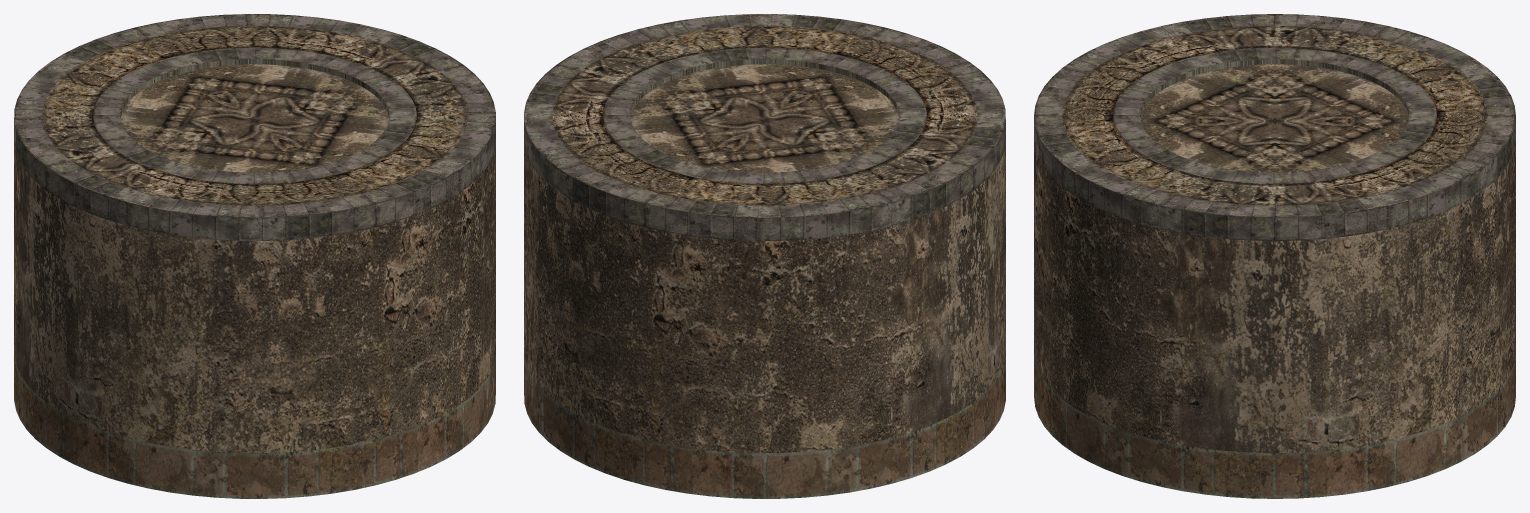
File: materials_5_pillar_fat_8.fbx
3 renders of one model, left to right at view 1: azimuth 30°, elevation 25°; view 2: azimuth 150°, elevation 25°; view 3: azimuth 270°, elevation 25°, orthographic.
Parts seen in each view (by area): view 1: materials_5_pillar_fat_8; view 2: materials_5_pillar_fat_8; view 3: materials_5_pillar_fat_8.
Boxes of the visible parts, x1,y1,x2,y2 form: materials_5_pillar_fat_8: (14,14,495,498); materials_5_pillar_fat_8: (524,14,1005,498); materials_5_pillar_fat_8: (1034,14,1515,498).
Size of the model in its own units: 135 by 86.73 by 135.
